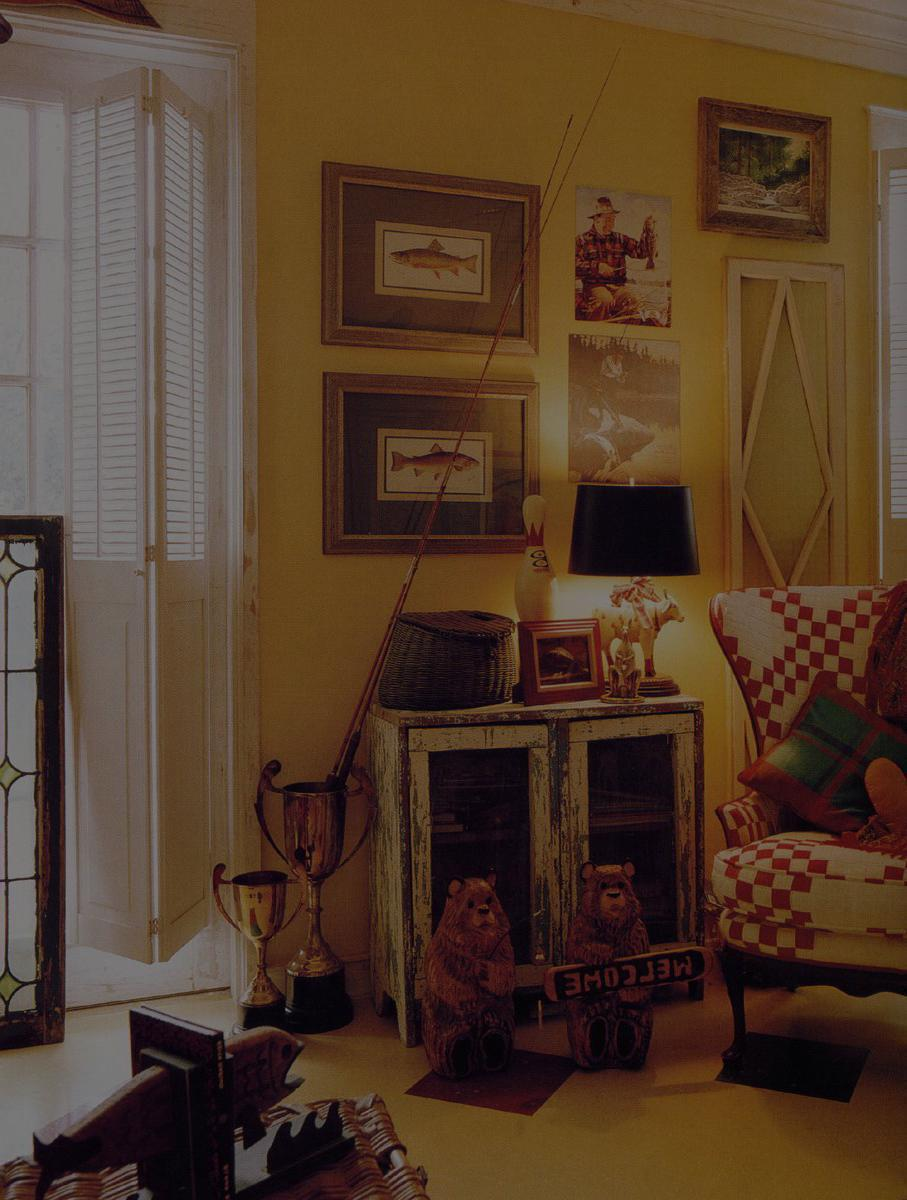Puerta: (57, 57, 235, 1008)
